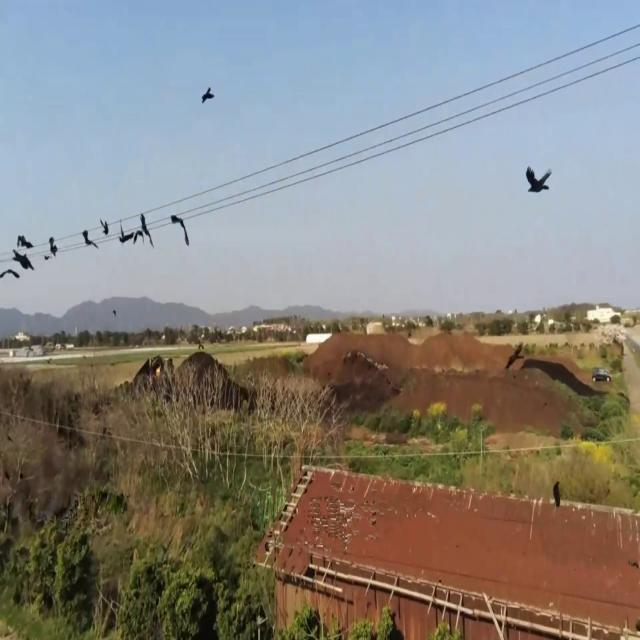bird: (524, 158, 552, 202), (170, 207, 189, 251), (14, 237, 34, 272), (139, 206, 152, 254), (1, 262, 19, 289), (201, 80, 215, 110), (82, 223, 96, 253), (552, 474, 561, 510), (47, 234, 58, 261), (119, 219, 128, 250), (102, 215, 109, 239)
